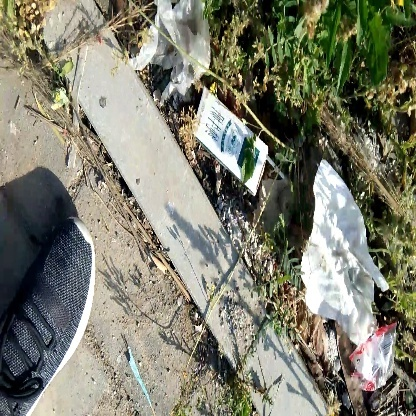milk-box: (190, 85, 277, 204)
